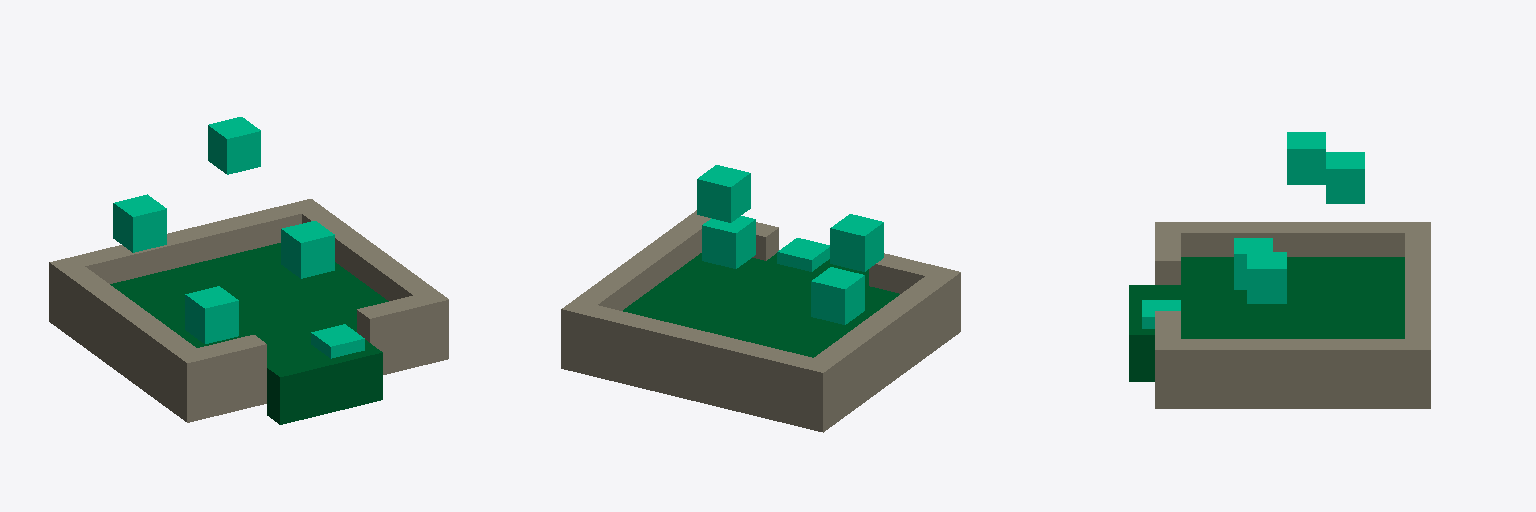
3 views of the same model, side by side, from view 1: azimuth 30°, elevation 25°; view 2: azimuth 150°, elevation 25°; view 3: azimuth 270°, elevation 25° (orthographic).
Bounding box in the file's own units: 23 × 17 × 23.
1 materials, 1 textured.